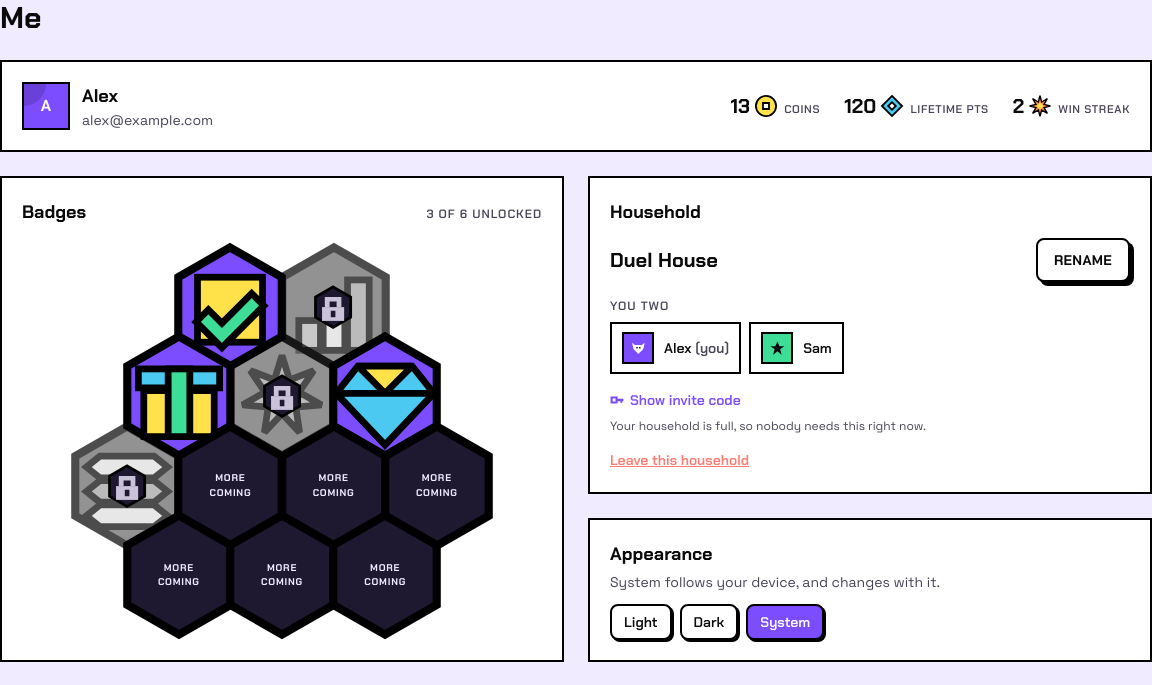
Test: household settings › surfaces the server’s own rejection
The image size is (1152, 685).
Click the button "Rename". click: click(1083, 260)
box: [1036, 238, 1130, 282]
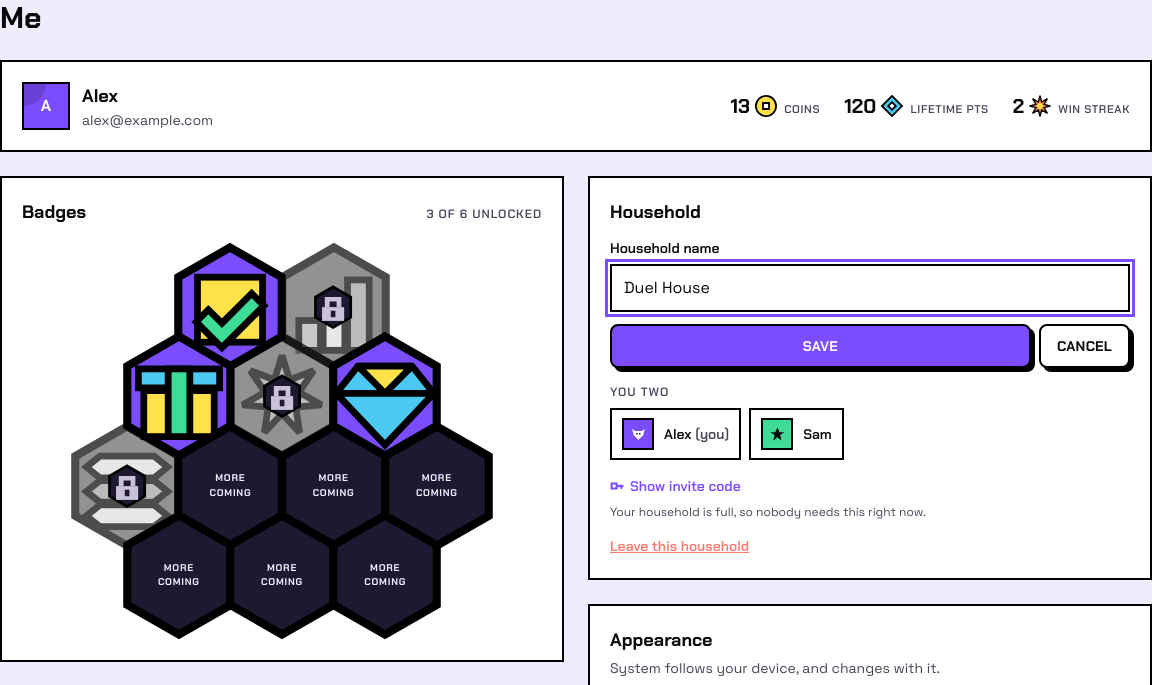
Replace the text in the field labelled "Household name" with "The Nest". click: (870, 288)
box: [610, 264, 1130, 312]
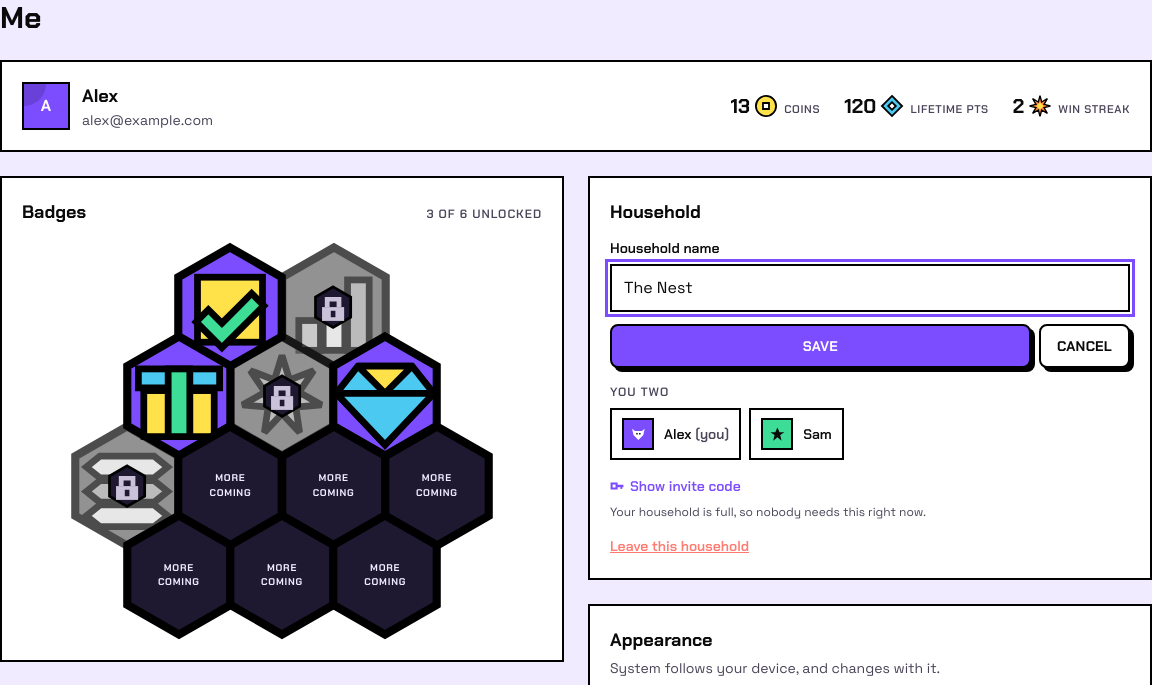
Click the button "Save". click: click(820, 346)
box: [610, 324, 1031, 368]
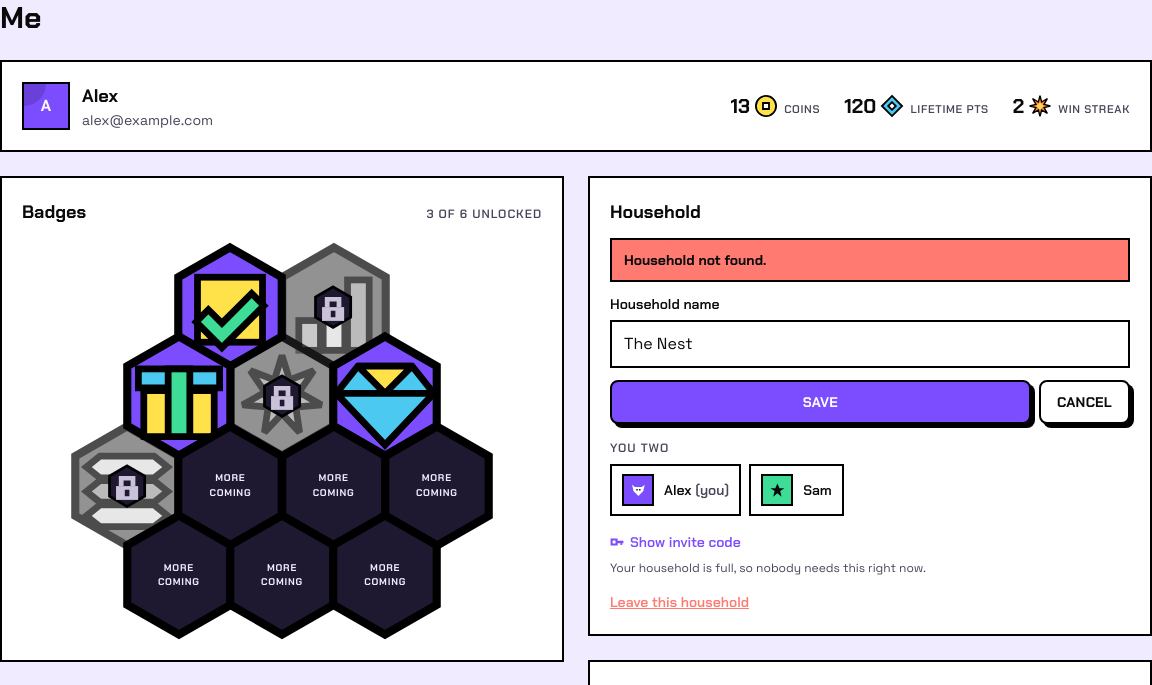
Now the message reads "Household not found.", box [624, 251, 766, 269]
